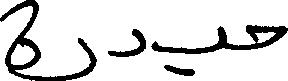X: (0, 0, 41, 80), (43, 33, 96, 80), (244, 20, 287, 54), (108, 24, 145, 61), (218, 21, 226, 54)
